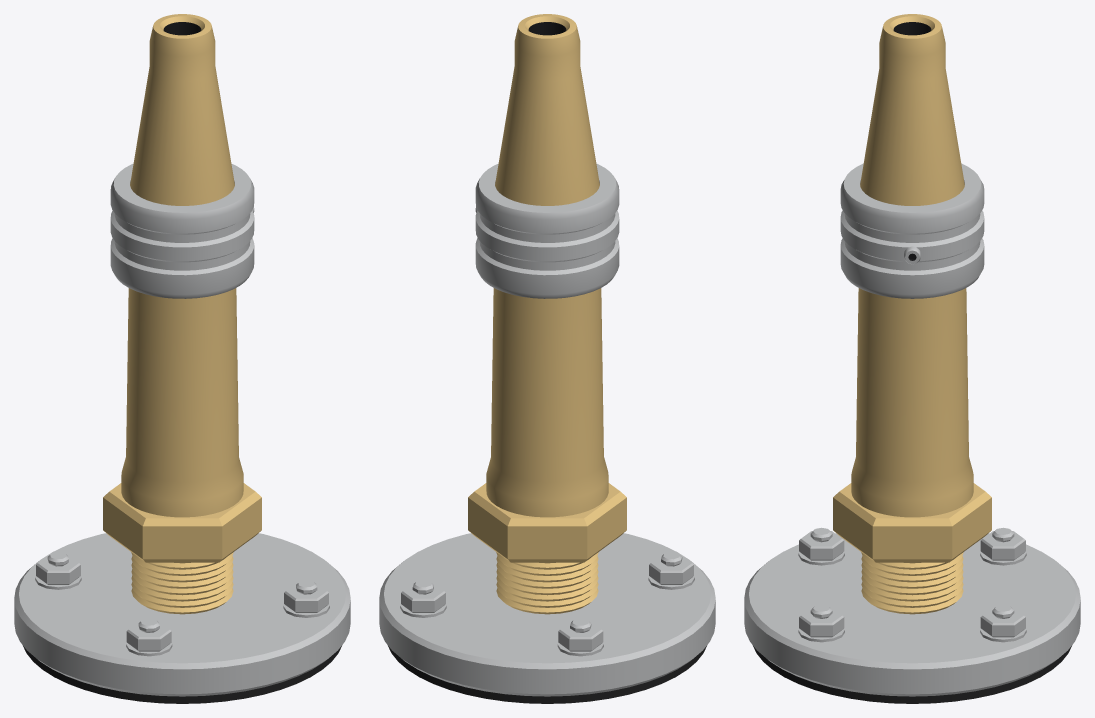
The model's file is nozzle_straight_dn25.glb.
3 views of the same model, side by side, from view 1: azimuth 30°, elevation 25°; view 2: azimuth 150°, elevation 25°; view 3: azimuth 270°, elevation 25° (orthographic).
Visible parts, largest first — view 1: Nozzle_Body; view 2: Nozzle_Body; view 3: Nozzle_Body.
Boxes of the visible parts, <box> form: Nozzle_Body: <box>14,14,350,703</box>; Nozzle_Body: <box>379,14,715,703</box>; Nozzle_Body: <box>744,14,1080,703</box>.
Size of the model in its own units: 0.11 by 0.22 by 0.11.
